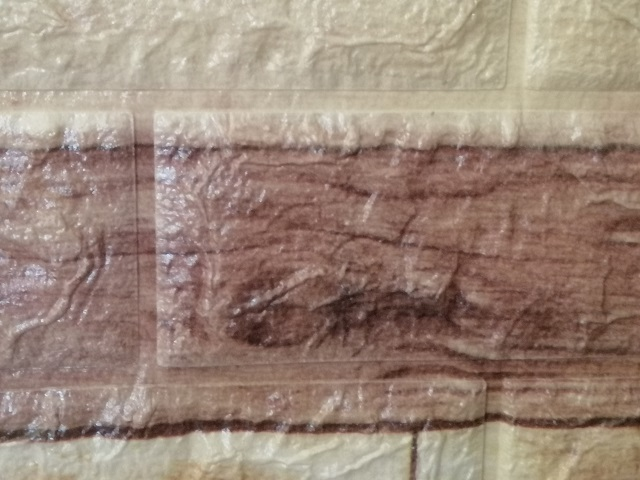wall: (7, 8, 631, 480)
